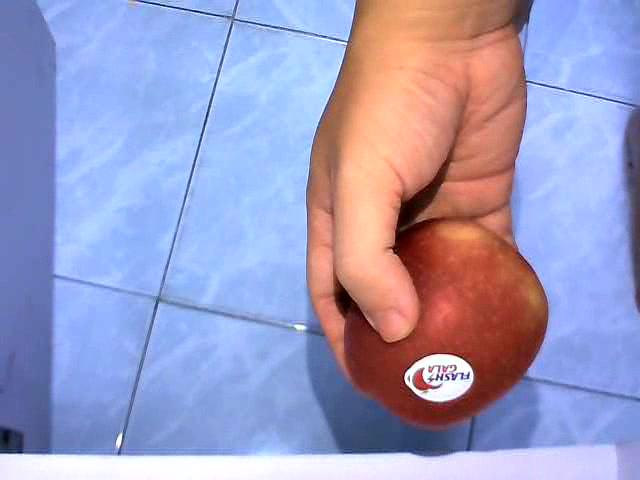apple: (342, 213, 550, 430)
